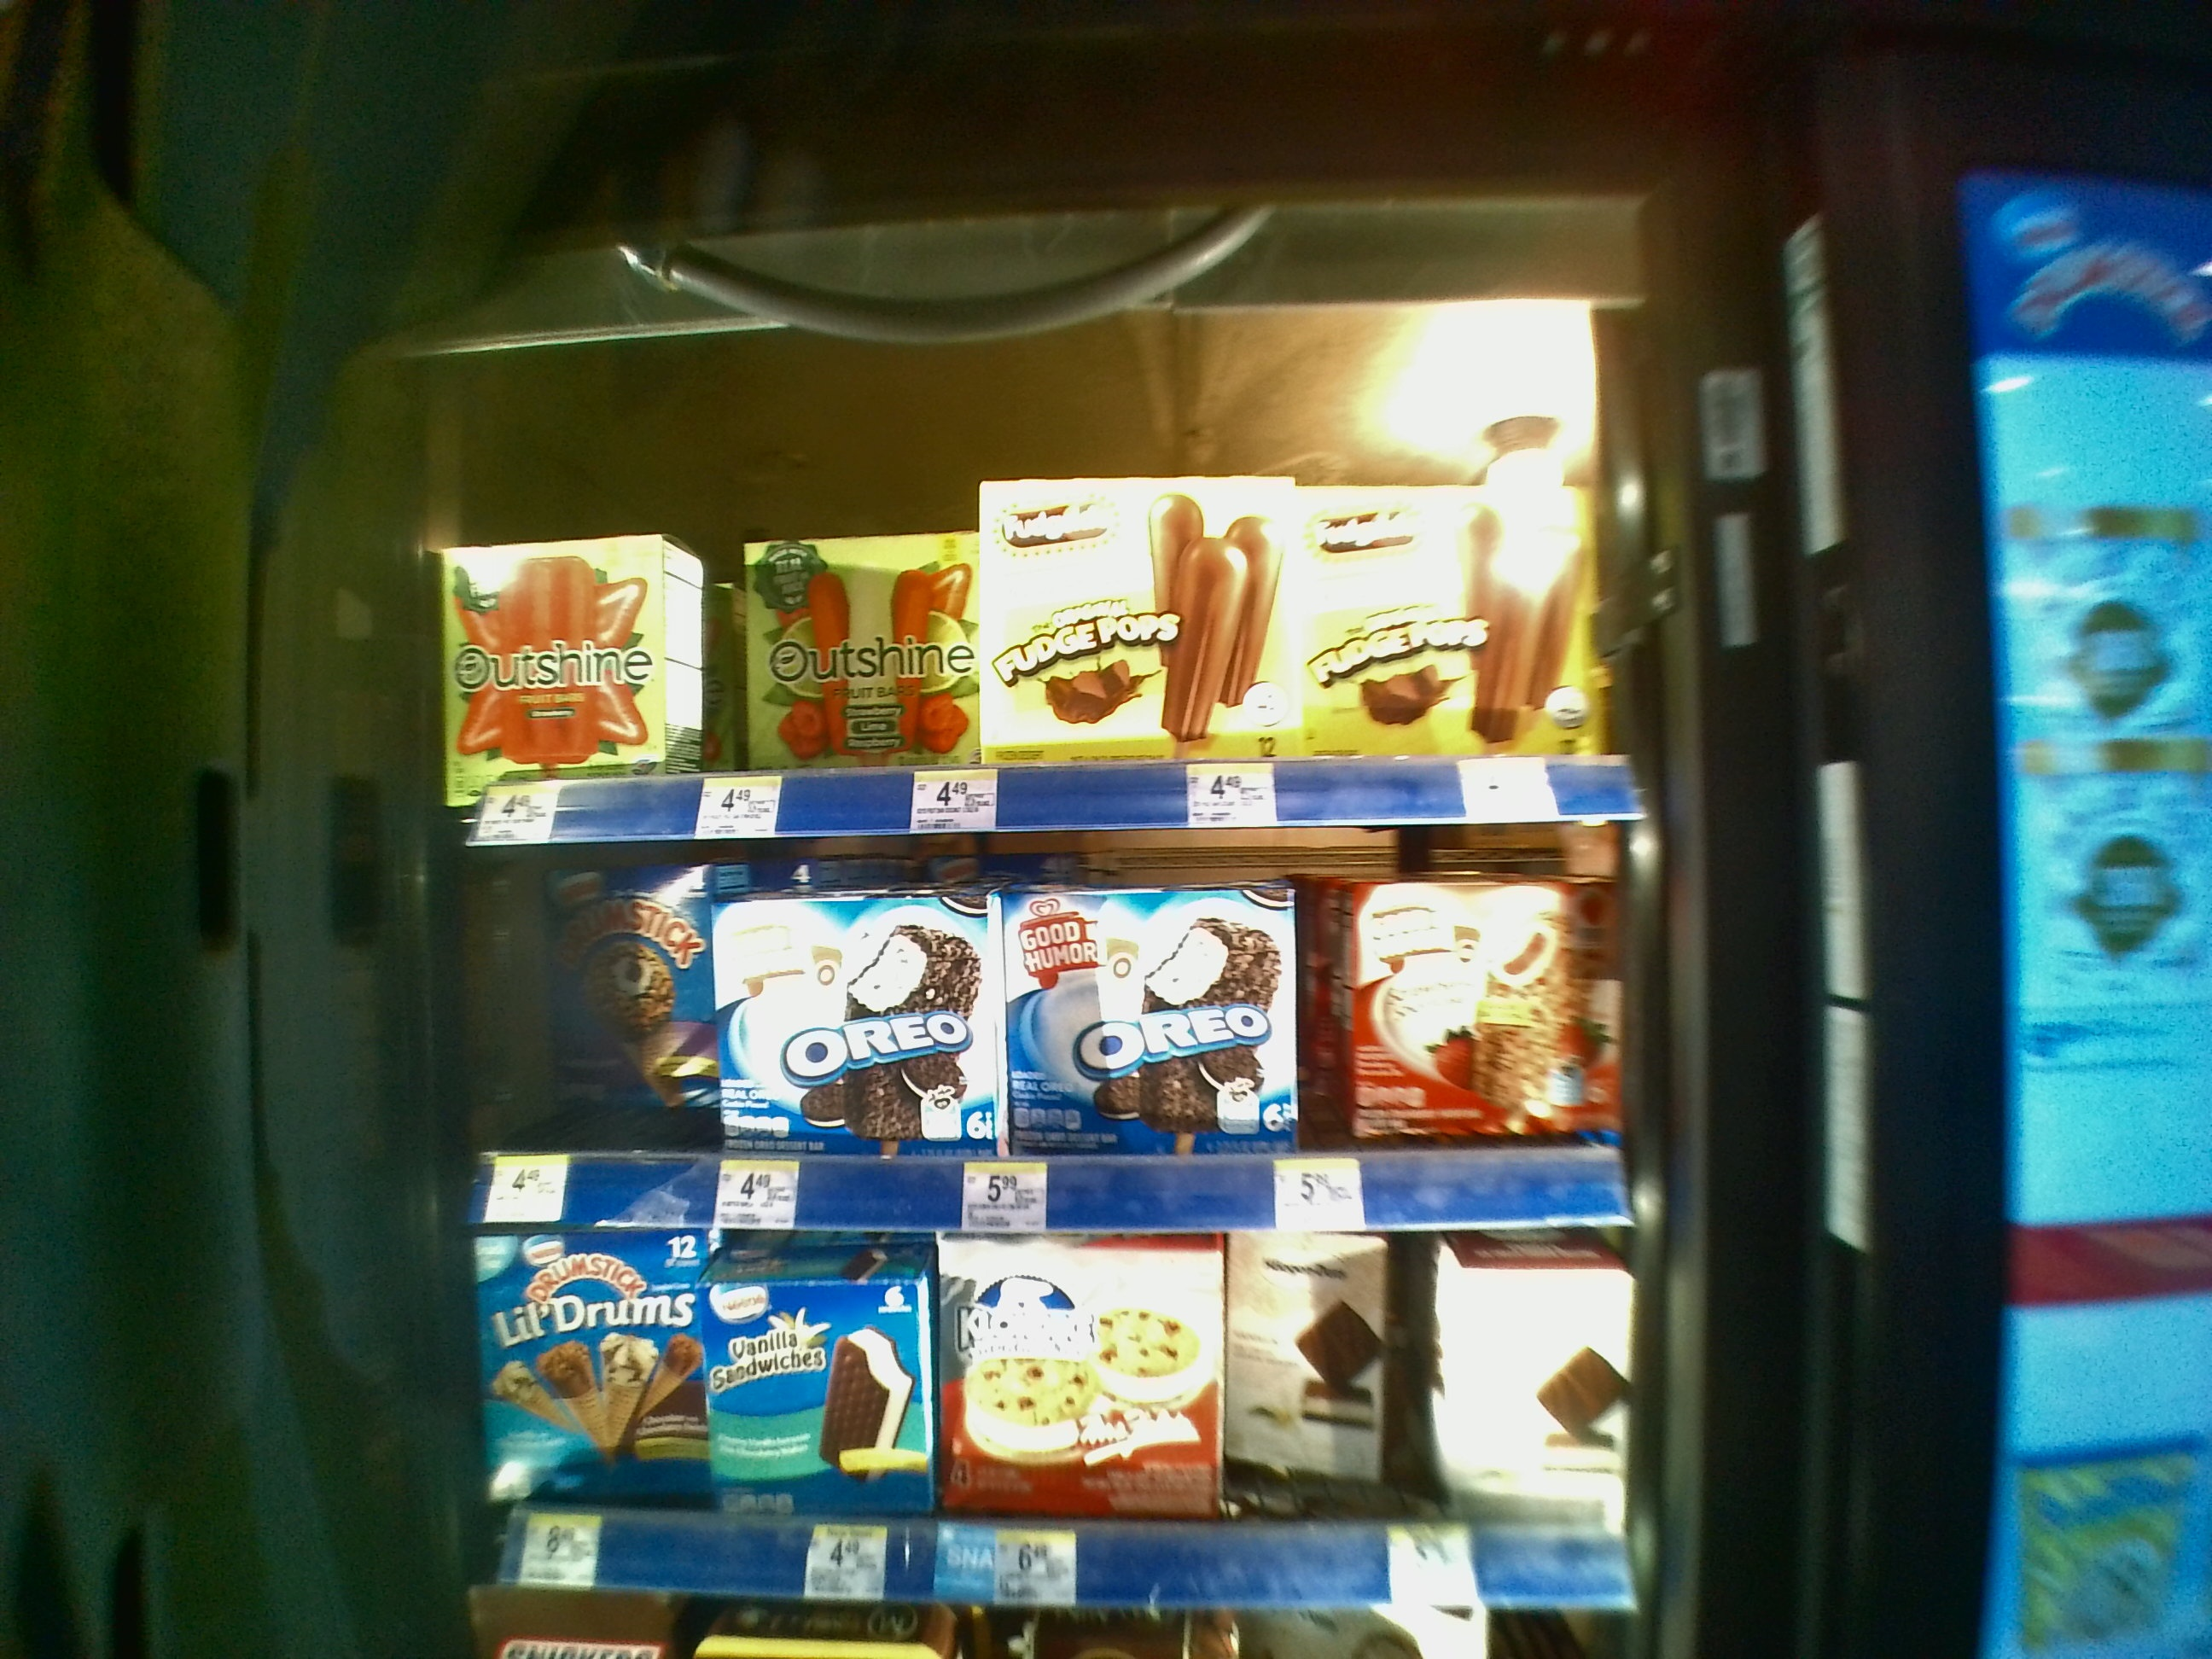shelf: (425, 397, 1655, 819), (421, 831, 1644, 1225), (427, 1248, 1635, 1593)
